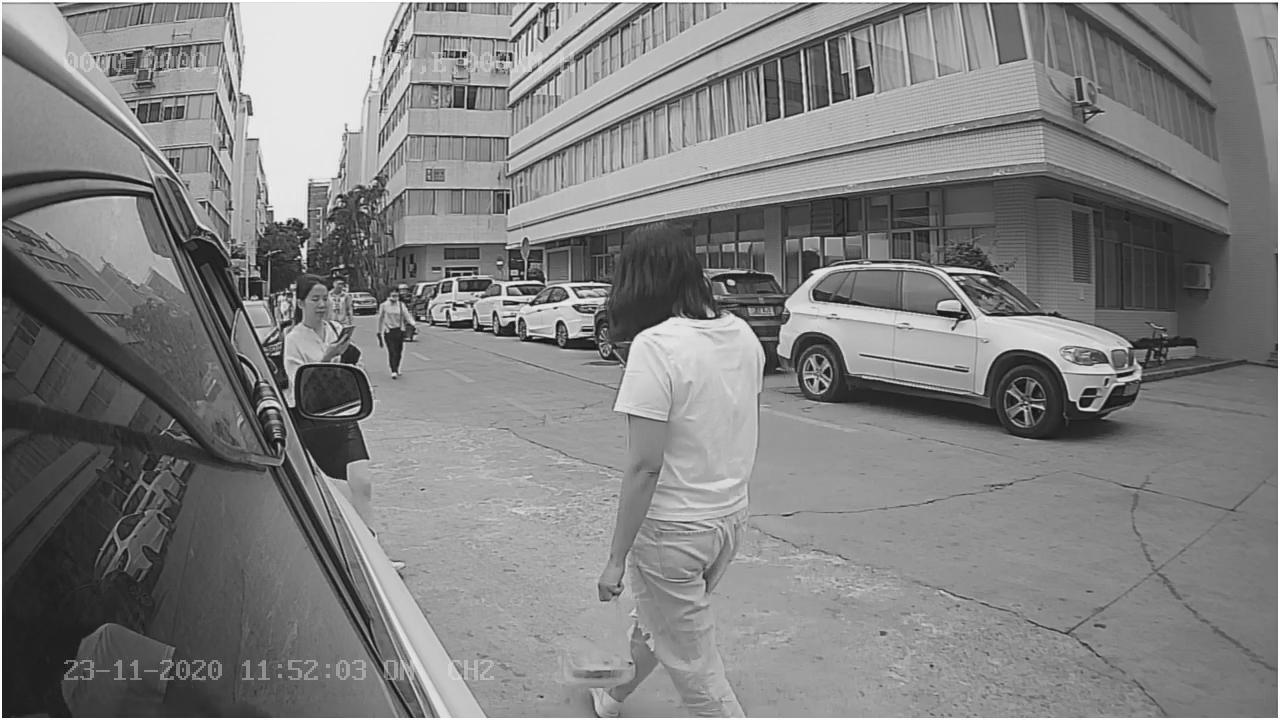person: (593, 215, 774, 472), (282, 259, 368, 362)
